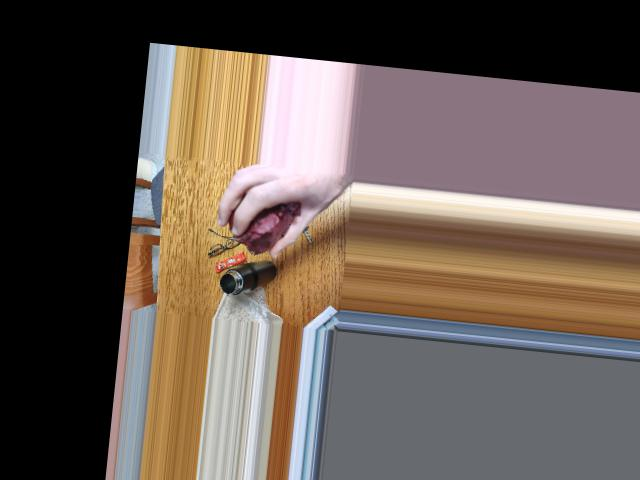onion: (227, 192, 301, 253)
